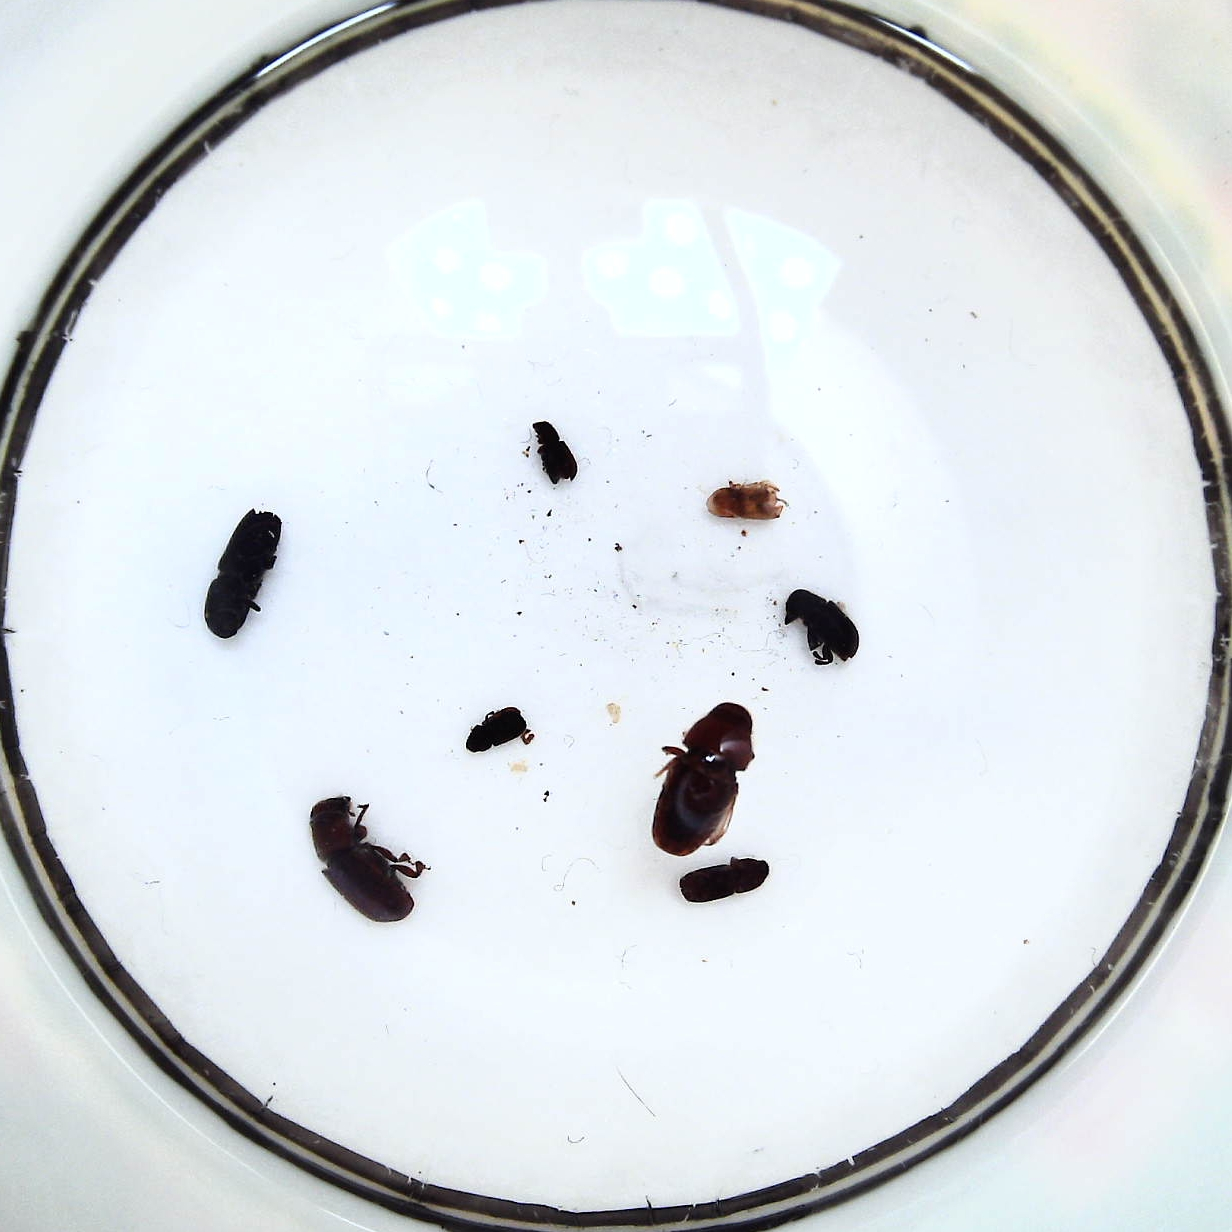Boerner: (203, 508, 282, 639)
Leconte: (652, 702, 753, 857), (309, 797, 425, 922)
acuminatus: (533, 420, 578, 484), (466, 707, 529, 753)
armandi: (785, 588, 859, 662)
coleoptera: (706, 482, 783, 519)
linnaeus: (680, 856, 769, 903)
